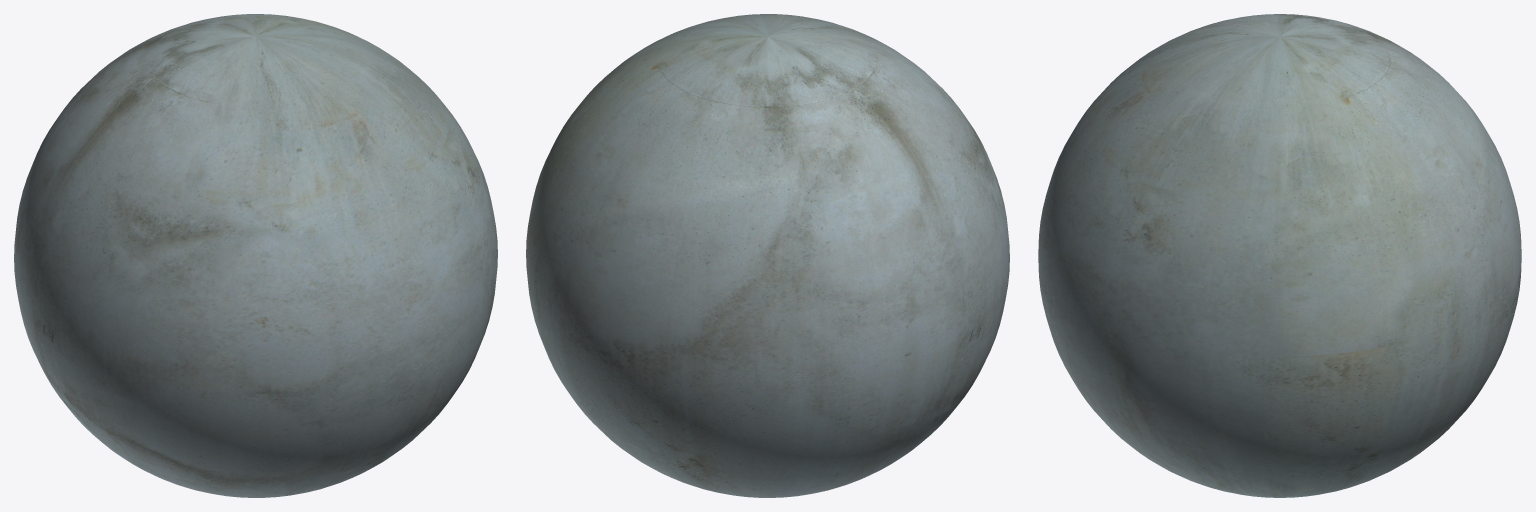
File: marble_2.fbx
3 views of the same model, side by side, from view 1: azimuth 30°, elevation 25°; view 2: azimuth 150°, elevation 25°; view 3: azimuth 270°, elevation 25° (orthographic).
Parts seen in each view (by area): view 1: pSphere1; view 2: pSphere1; view 3: pSphere1.
Part boxes in pixels (bbox=[...]): pSphere1: bbox=[14, 14, 497, 497]; pSphere1: bbox=[526, 14, 1009, 497]; pSphere1: bbox=[1038, 14, 1521, 497].
Bounding box in the file's own units: 2 × 2 × 2.
1 material, 1 textured.
